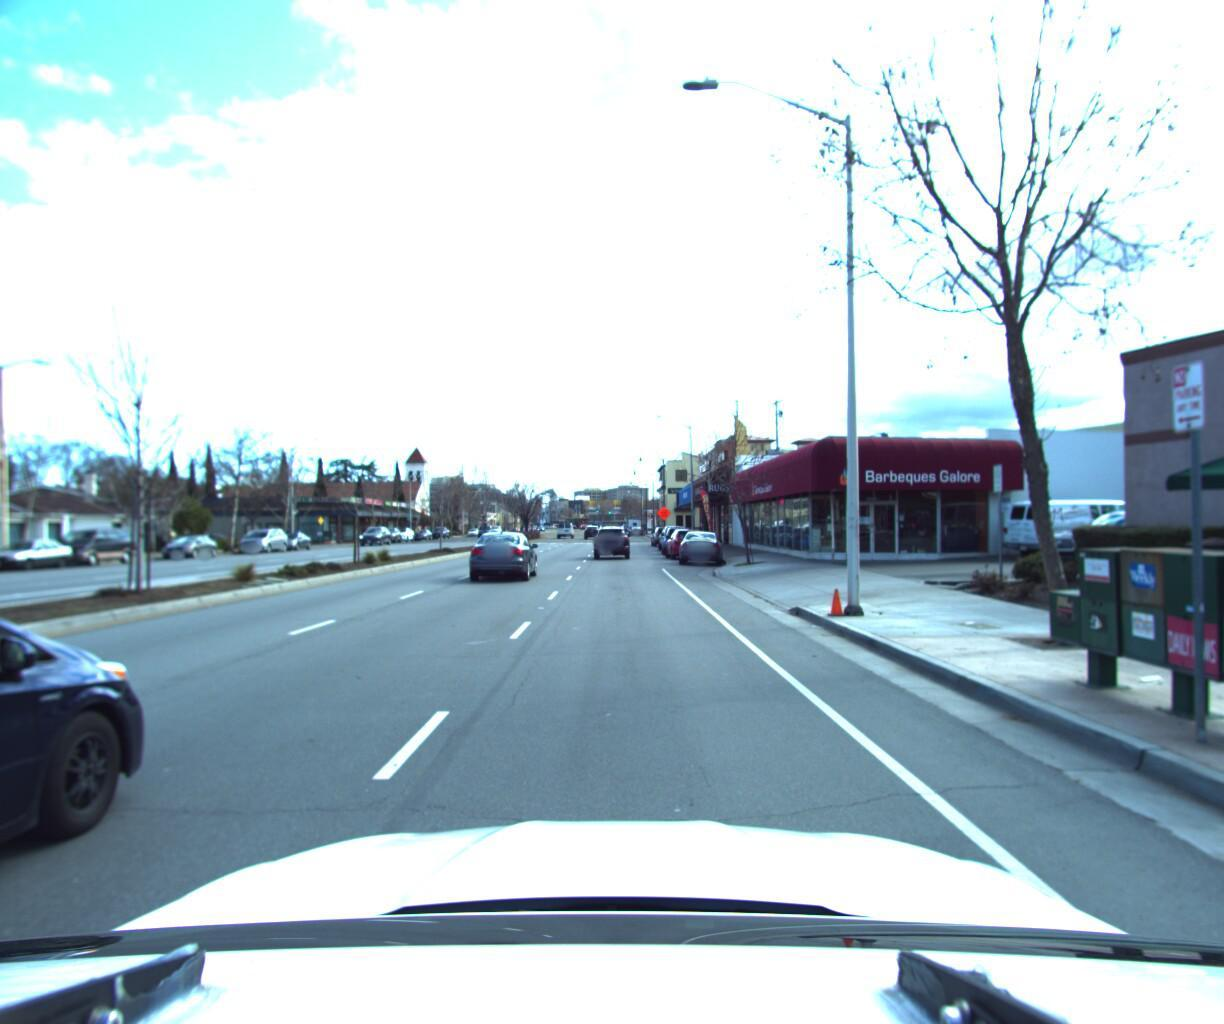car: (0, 538, 191, 1024), (1029, 501, 1224, 579), (996, 491, 1161, 555), (45, 527, 143, 568), (468, 527, 538, 581), (0, 538, 81, 573), (159, 533, 224, 560), (679, 525, 722, 564), (234, 525, 293, 553), (665, 525, 708, 556), (592, 522, 629, 556), (657, 521, 694, 548), (270, 530, 317, 550), (359, 524, 395, 543)
